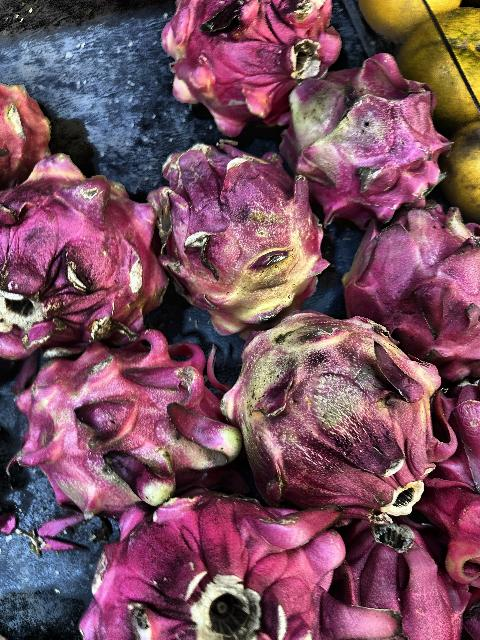buah-naga-belum-matang: (227, 294, 449, 502), (25, 336, 245, 504), (141, 144, 329, 316), (1, 141, 162, 337), (290, 64, 454, 230), (0, 77, 56, 187)
buah-naga-matang: (64, 488, 338, 640), (330, 184, 480, 356), (330, 500, 480, 640), (148, 0, 334, 110)
